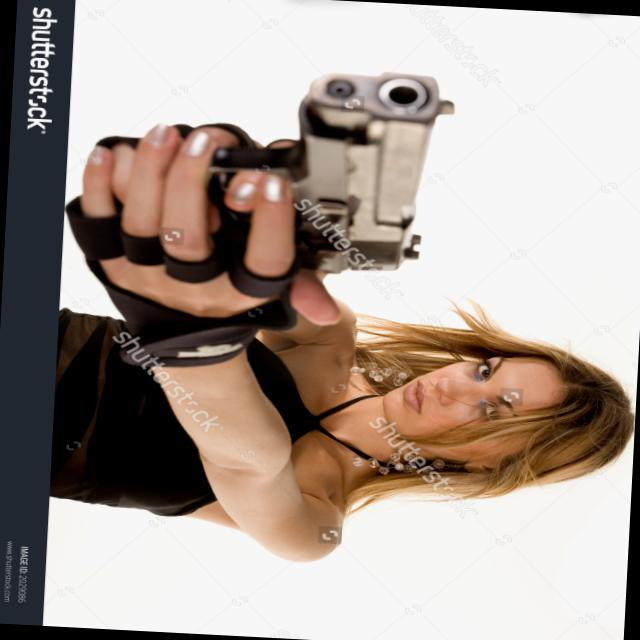handgun: (88, 53, 454, 283)
